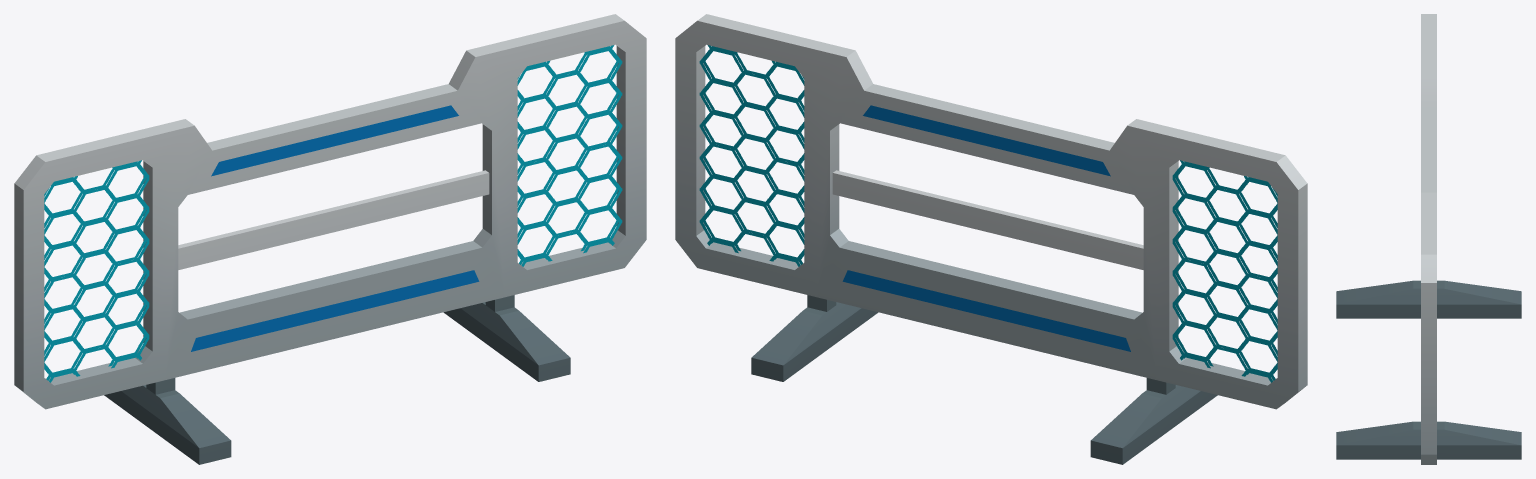
File: Barriaer_009.fbx
3 views of the same model, side by side, from view 1: azimuth 30°, elevation 25°; view 2: azimuth 150°, elevation 25°; view 3: azimuth 270°, elevation 25° (orthographic). The views are drawn at different scales.
Visible parts, largest first — view 1: Barriaer_009; view 2: Barriaer_009; view 3: Barriaer_009.
Boxes of the visible parts, x1=… form: Barriaer_009: x1=14, y1=14, x2=646, y2=464; Barriaer_009: x1=675, y1=14, x2=1307, y2=464; Barriaer_009: x1=1336, y1=14, x2=1521, y2=464.
Bounding box in the file's own units: 195 × 59.05 × 87.3.
